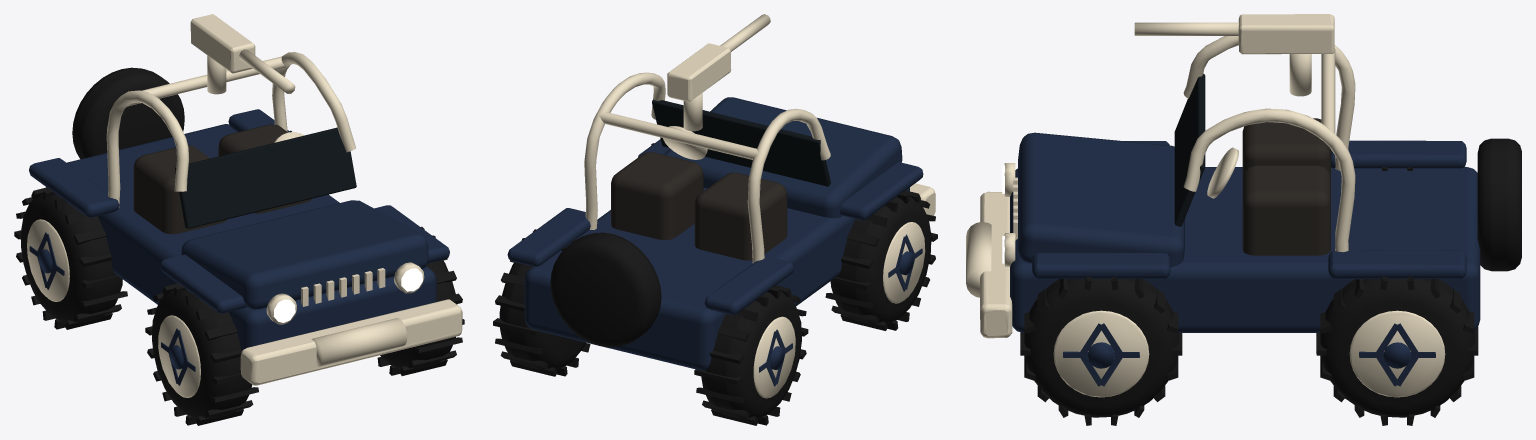
File: jeep_hellerup.glb
3 views of the same model, side by side, from view 1: azimuth 30°, elevation 25°; view 2: azimuth 150°, elevation 25°; view 3: azimuth 270°, elevation 25° (orthographic). The views are drawn at different scales.
Parts seen in each view (by area): view 1: krop_net; view 2: krop_net; view 3: krop_net.
Part boxes in pixels (x1,y1,x2,y2): krop_net: (14, 14, 464, 425); krop_net: (493, 14, 937, 425); krop_net: (966, 14, 1521, 425).
Size of the model in its own units: 1.04 by 1.15 by 1.71.
